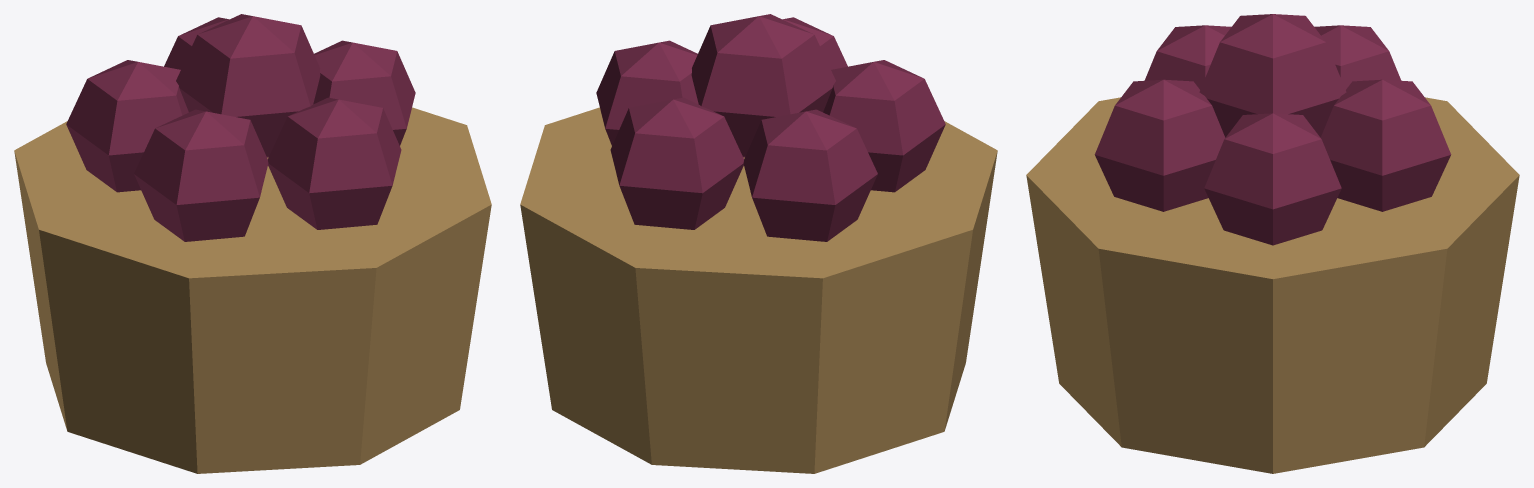
The model's file is berries.glb.
3 renders of one model, left to right at view 1: azimuth 30°, elevation 25°; view 2: azimuth 150°, elevation 25°; view 3: azimuth 270°, elevation 25°, orthographic.
Parts seen in each view (by area): view 1: berries; view 2: berries; view 3: berries.
Boxes of the visible parts, x1,y1,x2,y2 form: berries: (14,14,491,473); berries: (520,14,997,473); berries: (1026,14,1519,473).
Size of the model in its own units: 0.15 by 0.124 by 0.15.
